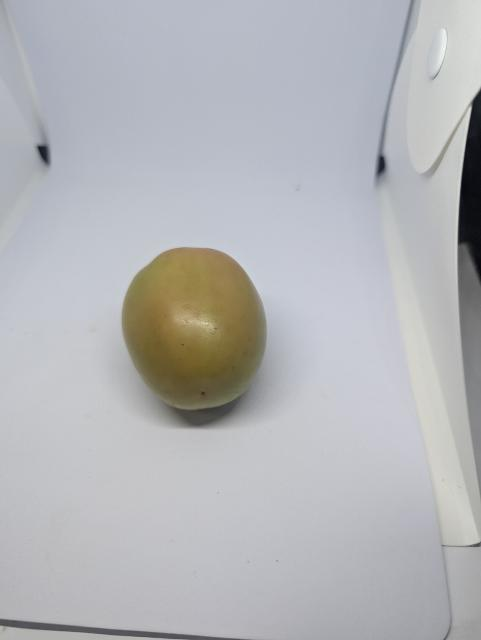breaker: (115, 240, 269, 424)
